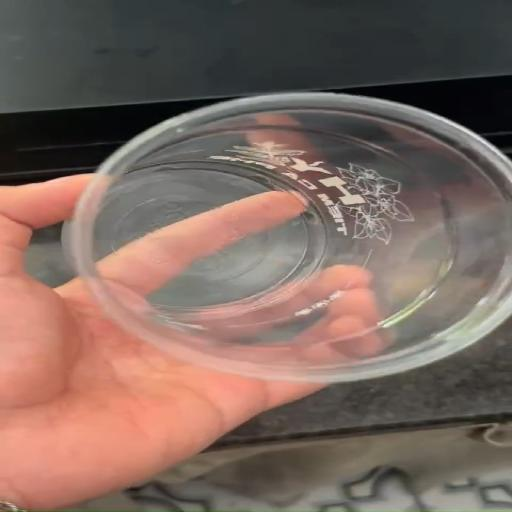ly_nhua: (63, 92, 511, 381)
